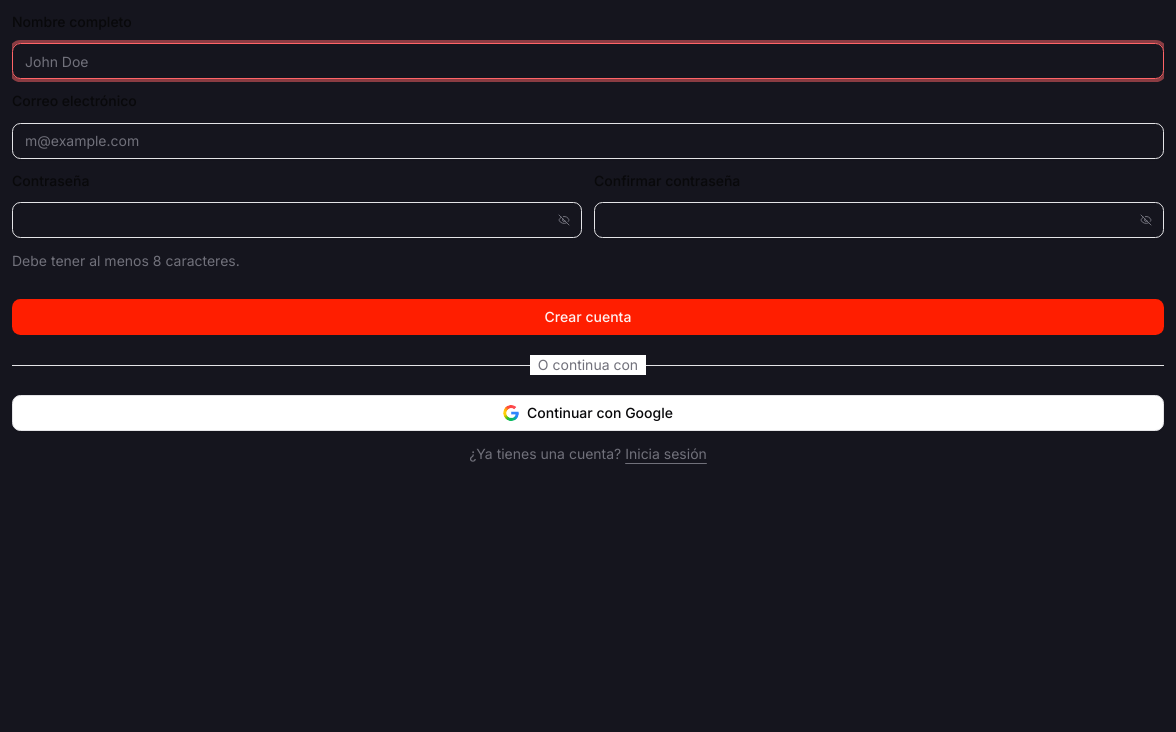
Test case: FormRegister › should show validation errors when submitting empty form
The image size is (1176, 732).
Click the button "Crear cuenta".
click(588, 317)  # box left=12, top=299, right=1164, bottom=335
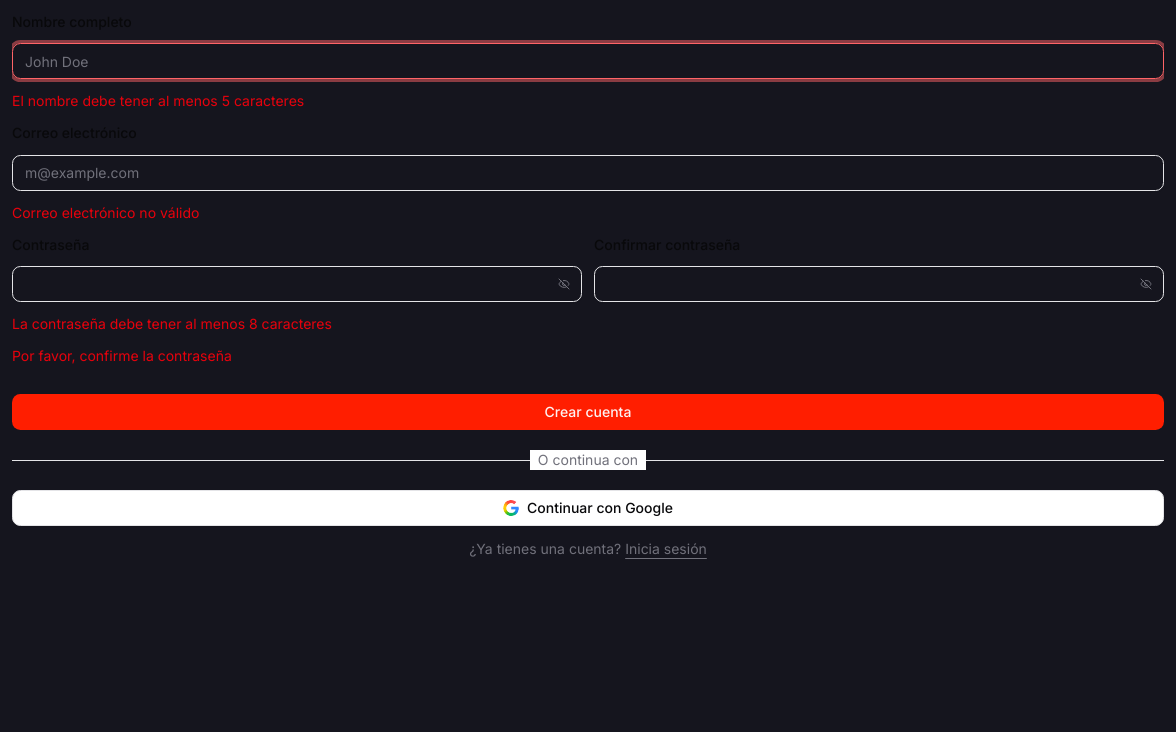
Result: the text "El nombre debe tener al menos 5 caracteres" is shown at left=12, top=92, right=304, bottom=109
Result: the text "Correo electrónico no válido" is shown at left=12, top=204, right=199, bottom=220
Result: the text "La contraseña debe tener al menos 8 caracteres" is shown at left=12, top=315, right=332, bottom=332
